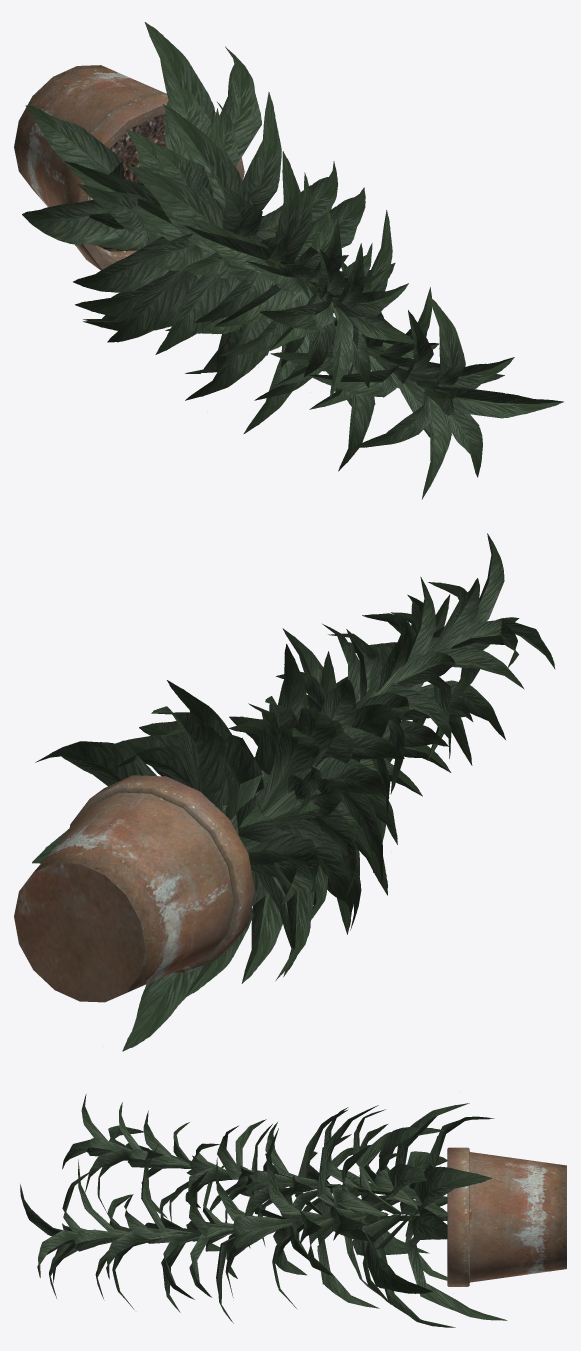
The model's file is nt_2020_greenhouse_plant_02_LOD0.obj.
3 renders of one model, top to bottom at view 1: azimuth 30°, elevation 25°; view 2: azimuth 150°, elevation 25°; view 3: azimuth 270°, elevation 25°, orthographic. The views are drawn at different scales.
Parts seen in each view (by area): view 1: mat_cub_pottedplant, mtl_p_glo_flower_pot_large, mtl_p_glo_flower_pot_dirt; view 2: mat_cub_pottedplant, mtl_p_glo_flower_pot_large; view 3: mat_cub_pottedplant, mtl_p_glo_flower_pot_large.
Part boxes in pixels (<box>): mat_cub_pottedplant: <box>22,22,563,499</box>; mtl_p_glo_flower_pot_large: <box>14,65,244,270</box>; mtl_p_glo_flower_pot_dirt: <box>87,114,165,251</box>; mat_cub_pottedplant: <box>32,533,555,1051</box>; mtl_p_glo_flower_pot_large: <box>14,775,254,1002</box>; mat_cub_pottedplant: <box>20,1094,507,1327</box>; mtl_p_glo_flower_pot_large: <box>447,1147,566,1286</box>.
Size of the model in its own units: 73.51 by 75.6 by 168.
